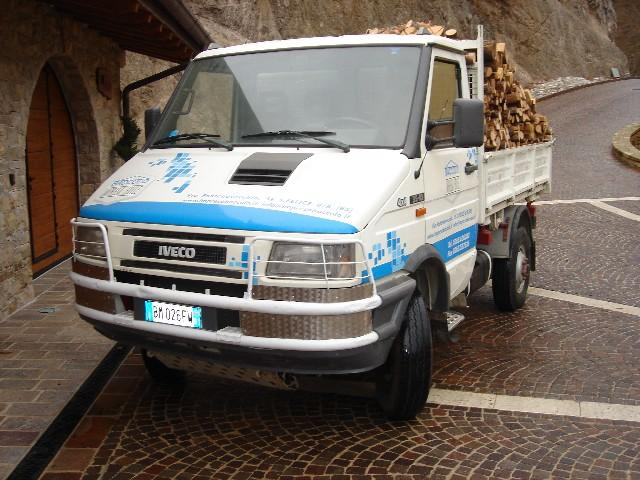truck: (69, 18, 555, 424)
